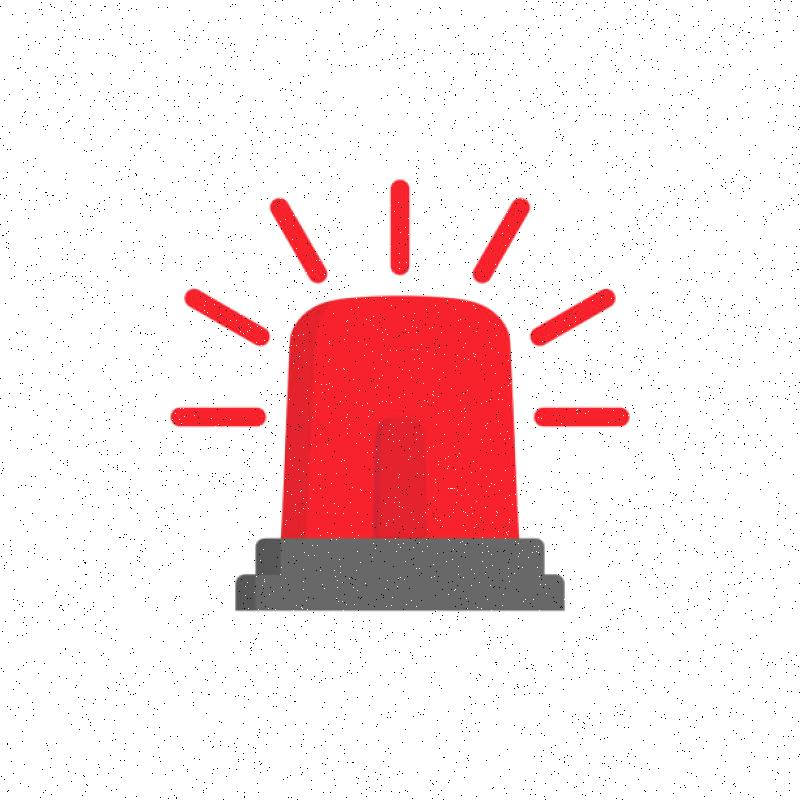AmbulanceSiren: (210, 184, 638, 642)
